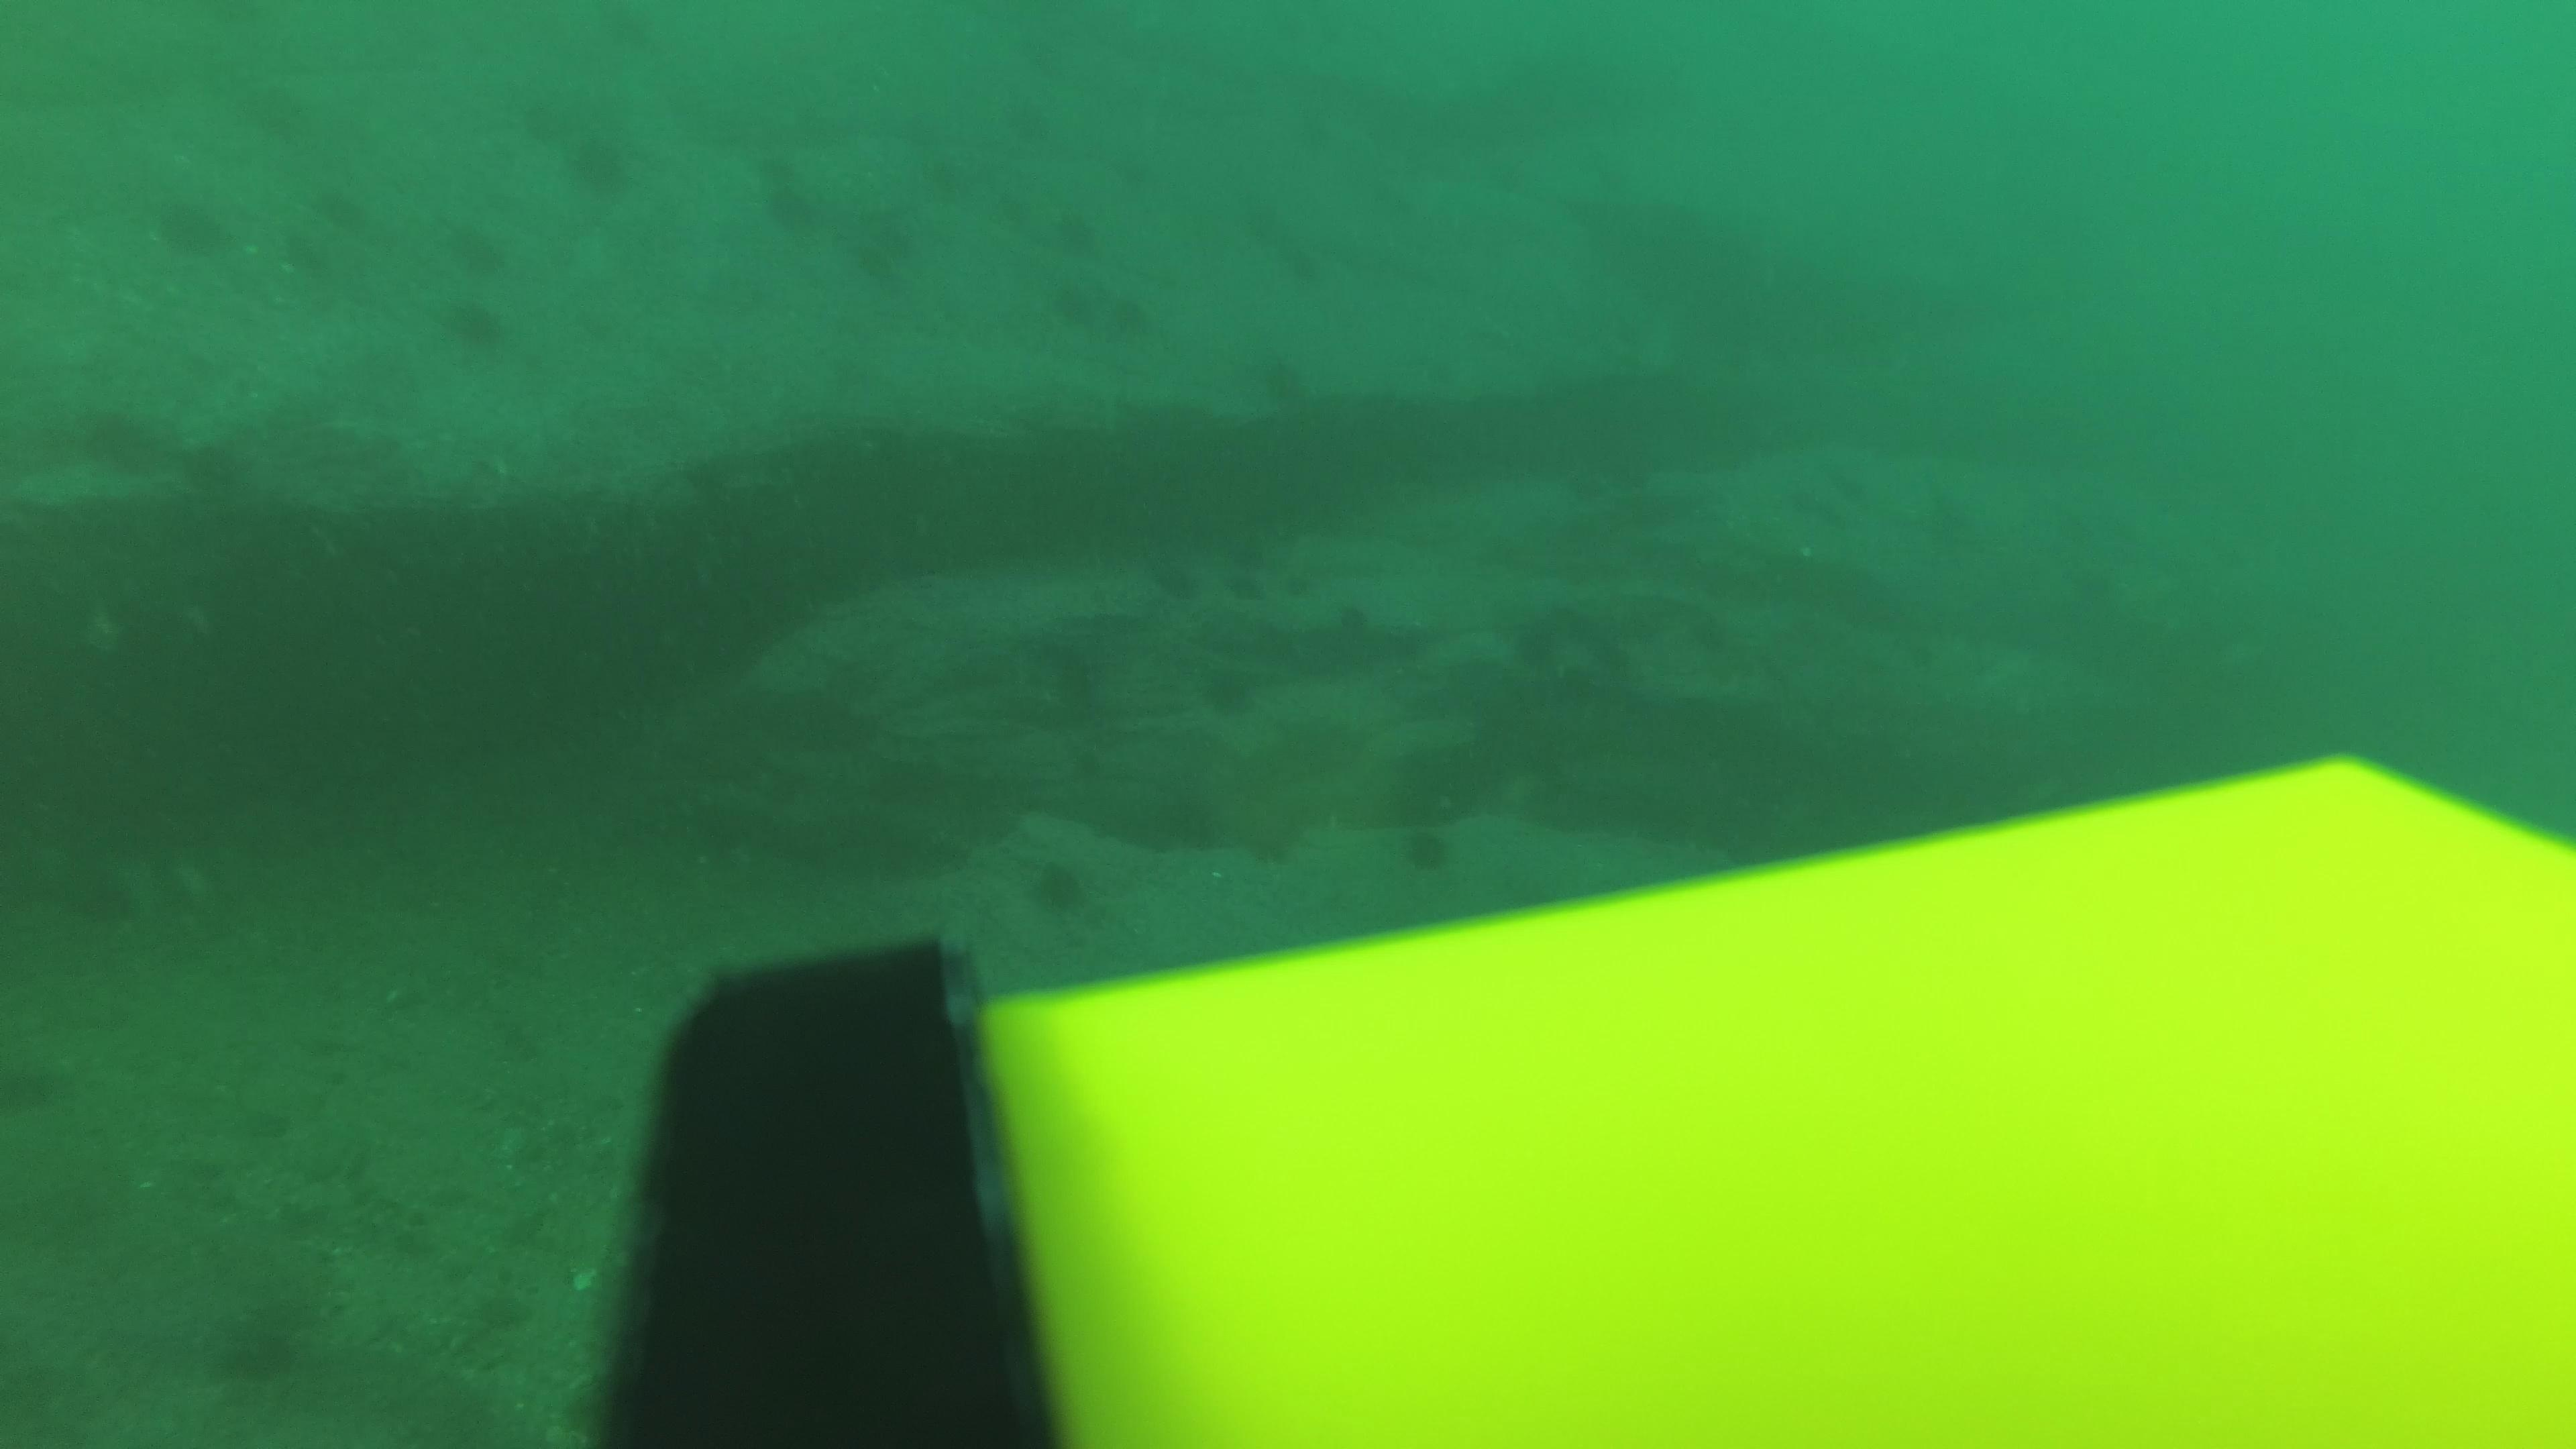echinus: (205, 1304, 313, 1394), (556, 119, 644, 202), (147, 186, 239, 264), (1021, 853, 1099, 922), (439, 223, 517, 292), (242, 76, 318, 145), (729, 127, 805, 196), (738, 166, 814, 235), (1131, 547, 1207, 616), (297, 177, 375, 244), (1040, 274, 1118, 341), (437, 292, 513, 359), (1192, 656, 1263, 722), (1391, 817, 1461, 881), (1224, 566, 1281, 619), (1224, 534, 1281, 586), (1323, 586, 1380, 637), (1560, 455, 1617, 506), (1592, 442, 1649, 494), (1612, 485, 1668, 536), (847, 239, 908, 287), (865, 205, 925, 253), (916, 152, 977, 200), (1481, 152, 1541, 200), (2068, 561, 2128, 609), (1272, 557, 1327, 609), (1100, 290, 1161, 336), (1051, 209, 1111, 255), (1005, 104, 1065, 150), (1270, 237, 1330, 283), (1265, 356, 1325, 402), (1223, 186, 1283, 232), (1095, 152, 1155, 198), (1792, 481, 1852, 527), (1817, 462, 1877, 508), (1679, 609, 1737, 655), (1502, 625, 1560, 671), (1555, 662, 1614, 708)
